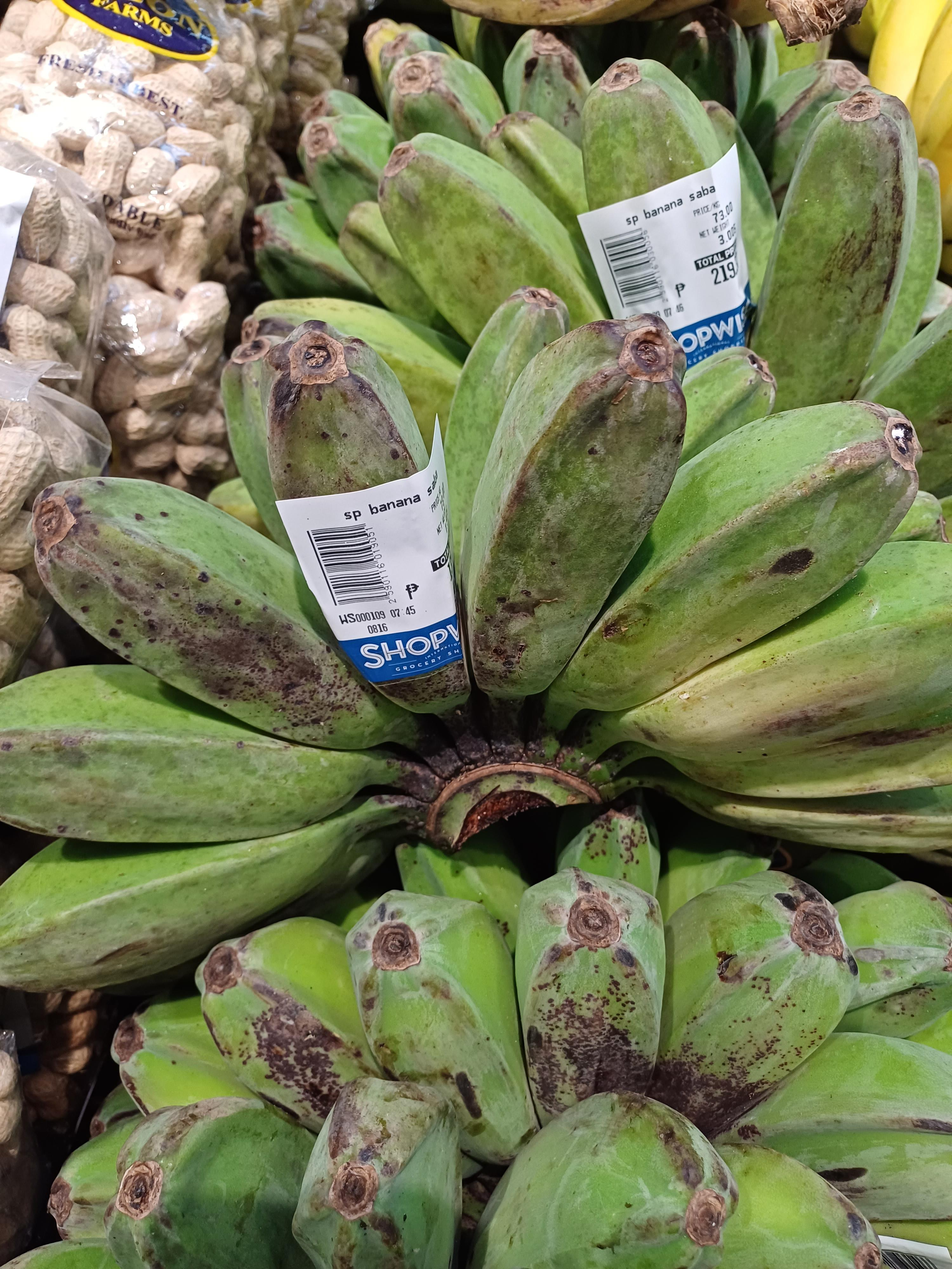underripe: (0, 287, 952, 989), (254, 30, 952, 496), (112, 871, 952, 1223), (4, 1078, 462, 1269), (469, 1092, 887, 1269)
